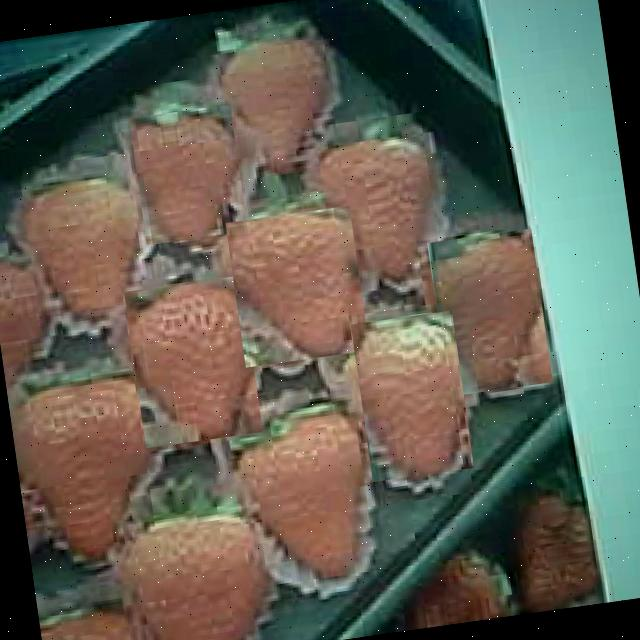ripe: (11, 377, 171, 564), (238, 405, 376, 588), (124, 276, 263, 448), (226, 206, 370, 368), (350, 310, 474, 482), (427, 228, 553, 396), (120, 506, 273, 640), (18, 170, 151, 321), (320, 130, 444, 284), (223, 28, 344, 180), (130, 104, 248, 246)
